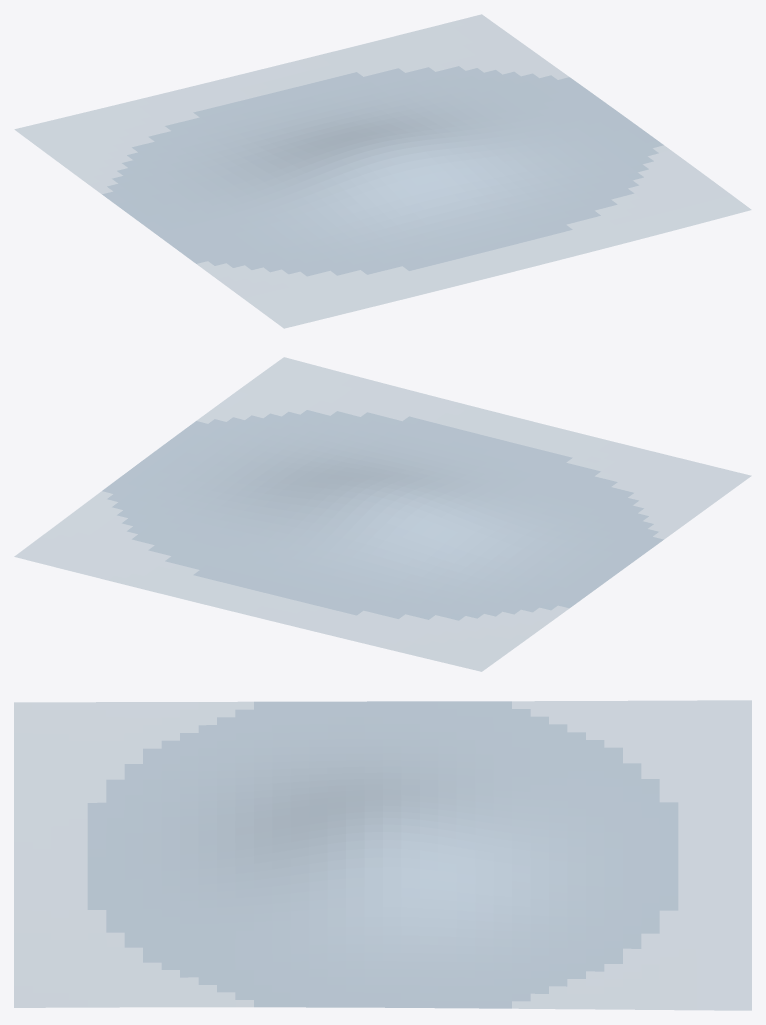
File: Ground_-3_-3.fbx
The picture shows the model from 3 angles, top to bottom: view 1: azimuth 30°, elevation 25°; view 2: azimuth 150°, elevation 25°; view 3: azimuth 270°, elevation 25°; orthographic projection. The views are drawn at different scales.
Parts seen in each view (by area): view 1: Ground_-3_-3; view 2: Ground_-3_-3; view 3: Ground_-3_-3.
Boxes of the visible parts, bbox=[...] form: Ground_-3_-3: bbox=[14, 14, 751, 328]; Ground_-3_-3: bbox=[14, 357, 751, 671]; Ground_-3_-3: bbox=[14, 700, 751, 1010].
Size of the model in its own units: 60000 by 2378 by 60000.
